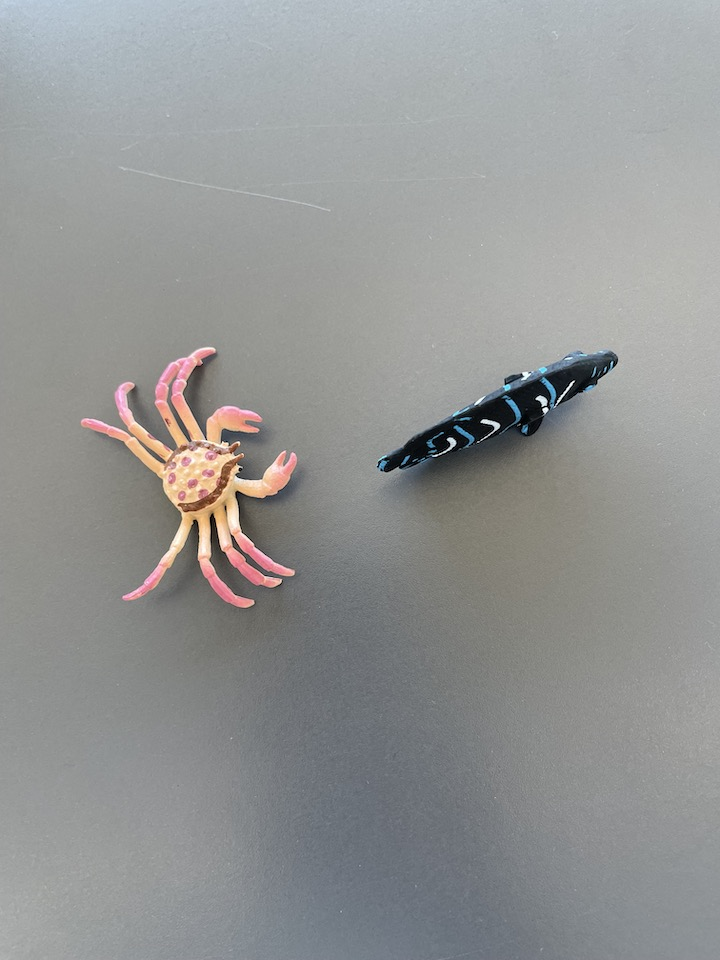crab: (78, 343, 307, 622)
fish: (372, 345, 627, 490)
